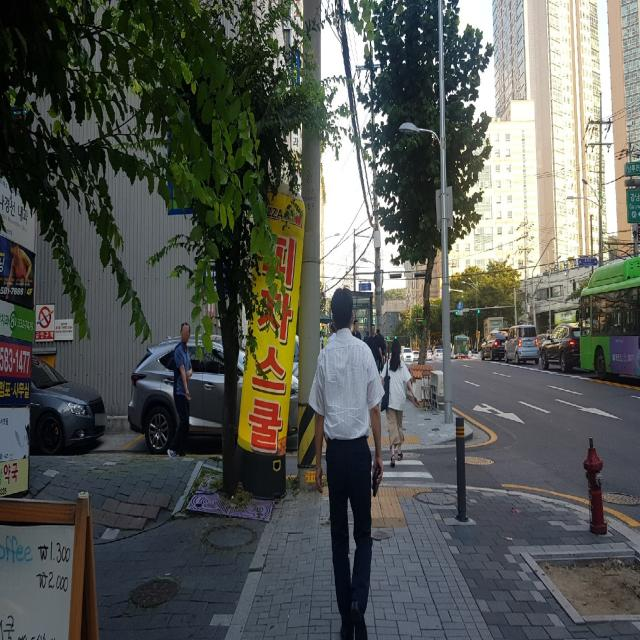횡단보도: (371, 459, 435, 480)
